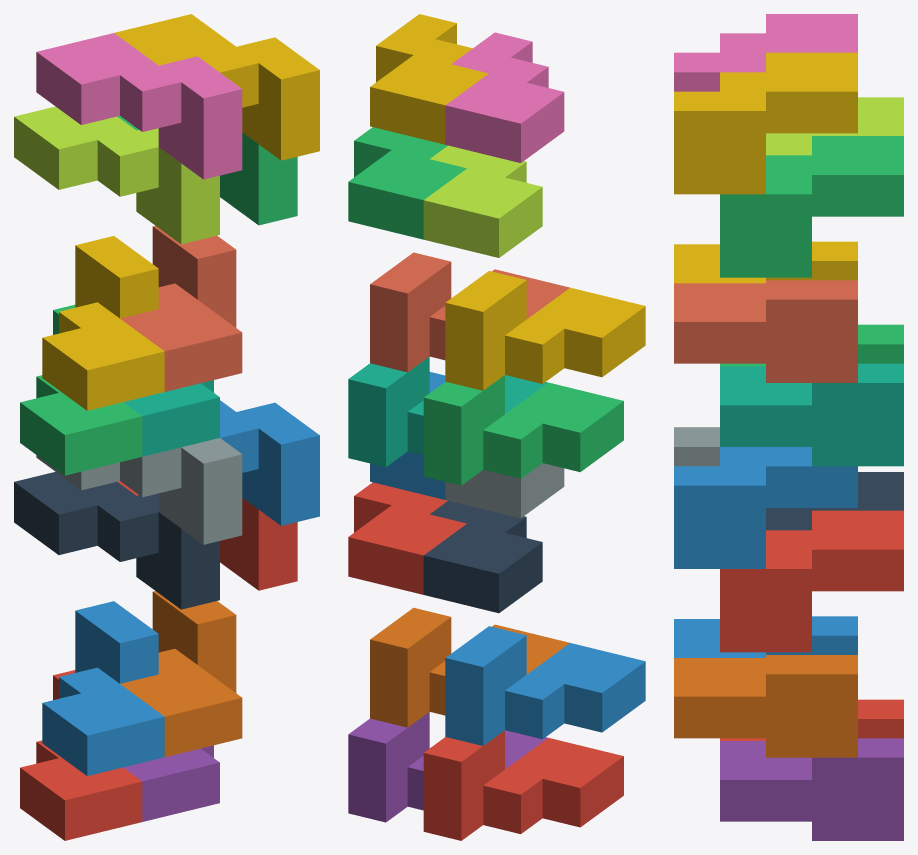
The model's file is tiling.obj.
3 views of the same model, side by side, from view 1: azimuth 30°, elevation 25°; view 2: azimuth 150°, elevation 25°; view 3: azimuth 270°, elevation 25° (orthographic). The views are drawn at different scales.
Parts seen in each view (by area): view 1: copy_2_domain_4, copy_1_domain_2, copy_1_domain_4, copy_2_domain_1, copy_2_domain_3, copy_2_domain_8, copy_1_domain_6, copy_1_domain_8, copy_2_domain_2, copy_2_domain_6, copy_1_domain_3, copy_1_domain_1 (+4 smaller); view 2: copy_1_domain_2, copy_1_domain_4, copy_1_domain_3, copy_1_domain_1, copy_2_domain_4, copy_2_domain_1, copy_2_domain_3, copy_2_domain_8, copy_1_domain_6, copy_1_domain_8, copy_2_domain_5, copy_2_domain_7 (+4 smaller); view 3: copy_2_domain_8, copy_2_domain_5, copy_2_domain_7, copy_1_domain_6, copy_1_domain_8, copy_1_domain_5, copy_1_domain_7, copy_2_domain_6, copy_2_domain_4, copy_1_domain_4, copy_1_domain_2, copy_2_domain_1 (+4 smaller).
Part boxes in pixels (x1=…): copy_2_domain_4: x1=36, y1=33, x2=242, y2=179; copy_1_domain_2: x1=42, y1=601, x2=164, y2=775; copy_1_domain_4: x1=42, y1=236, x2=164, y2=410; copy_2_domain_1: x1=14, y1=472, x2=219, y2=609; copy_2_domain_3: x1=14, y1=106, x2=219, y2=244; copy_2_domain_8: x1=114, y1=14, x2=319, y2=160; copy_1_domain_6: x1=120, y1=591, x2=242, y2=756; copy_1_domain_8: x1=120, y1=225, x2=242, y2=391; copy_2_domain_2: x1=36, y1=438, x2=242, y2=544; copy_2_domain_6: x1=220, y1=400, x2=319, y2=525; copy_1_domain_3: x1=20, y1=304, x2=142, y2=475; copy_1_domain_1: x1=20, y1=670, x2=142, y2=840; copy_1_domain_2: x1=445, y1=626, x2=645, y2=745; copy_1_domain_4: x1=445, y1=271, x2=645, y2=390; copy_1_domain_3: x1=423, y1=375, x2=623, y2=485; copy_1_domain_1: x1=423, y1=730, x2=623, y2=840; copy_2_domain_4: x1=445, y1=32, x2=564, y2=162; copy_2_domain_1: x1=423, y1=500, x2=542, y2=613; copy_2_domain_3: x1=423, y1=145, x2=542, y2=257; copy_2_domain_8: x1=370, y1=14, x2=488, y2=144; copy_1_domain_6: x1=370, y1=607, x2=569, y2=727; copy_1_domain_8: x1=370, y1=252, x2=569, y2=372; copy_2_domain_5: x1=348, y1=482, x2=466, y2=594; copy_2_domain_7: x1=348, y1=127, x2=466, y2=239; copy_2_domain_8: x1=674, y1=52, x2=857, y2=194; copy_2_domain_5: x1=720, y1=510, x2=903, y2=652; copy_2_domain_7: x1=720, y1=136, x2=903, y2=277; copy_1_domain_6: x1=674, y1=655, x2=857, y2=757; copy_1_domain_8: x1=674, y1=280, x2=857, y2=382; copy_1_domain_5: x1=720, y1=738, x2=903, y2=840; copy_1_domain_7: x1=720, y1=363, x2=903, y2=466; copy_2_domain_6: x1=674, y1=447, x2=857, y2=568; copy_2_domain_4: x1=674, y1=14, x2=857, y2=91; copy_1_domain_4: x1=674, y1=241, x2=857, y2=283; copy_1_domain_2: x1=674, y1=616, x2=857, y2=657; copy_2_domain_1: x1=766, y1=472, x2=903, y2=530.
Size of the model in its own units: 6 by 18 by 5.
